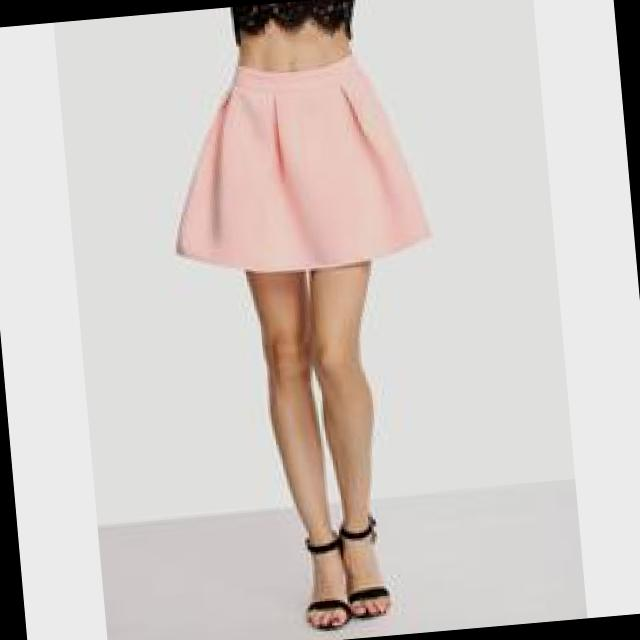skirt: (154, 44, 438, 279)
